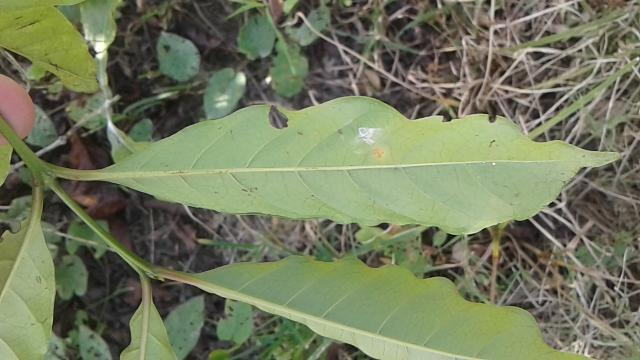rust_level_1: (101, 92, 630, 236)
